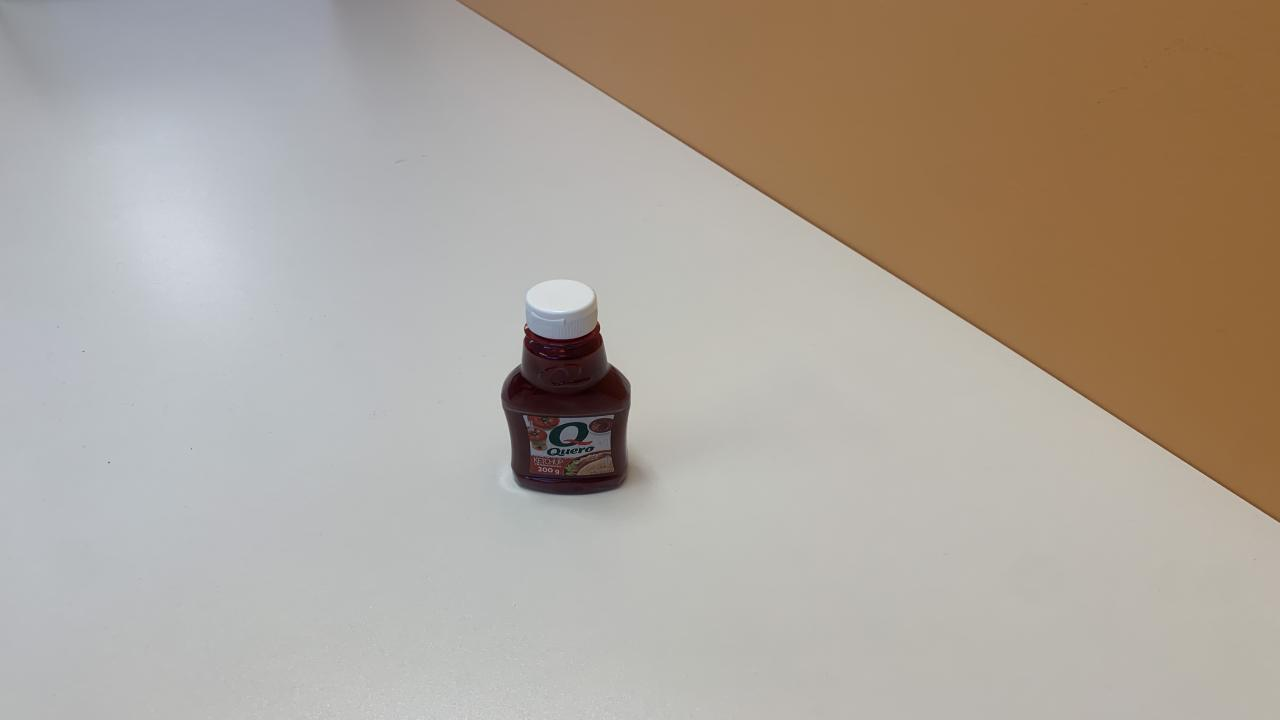Ketchup-Pantry_Items: (503, 281, 633, 498)
